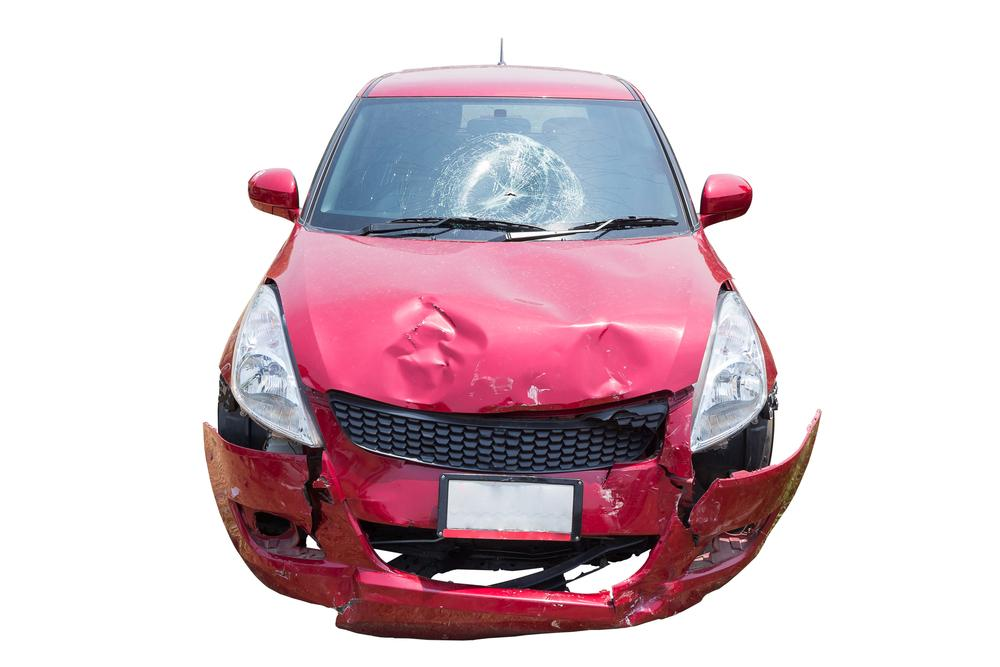crack: (659, 463, 715, 546), (303, 450, 334, 538), (609, 586, 616, 616)
dent: (376, 243, 644, 413), (597, 475, 644, 525)
glass shatter: (309, 97, 688, 242)
